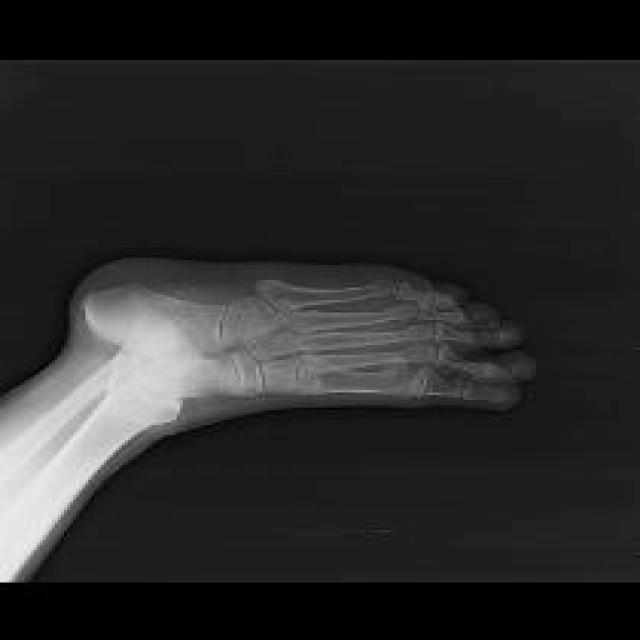normal: (0, 282, 528, 575)
